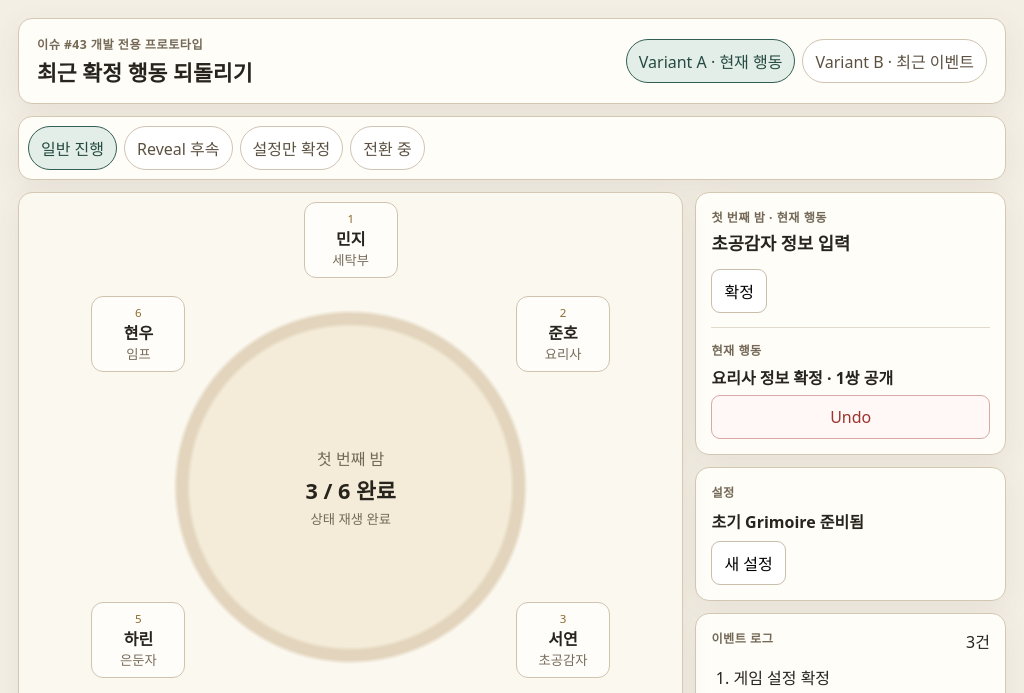
Test: keeps Undo discoverable while a confirmed Reveal follow-up is pending
The image size is (1024, 693).
Click the button "Reveal 후속". click: (178, 148)
box: [124,126,232,170]
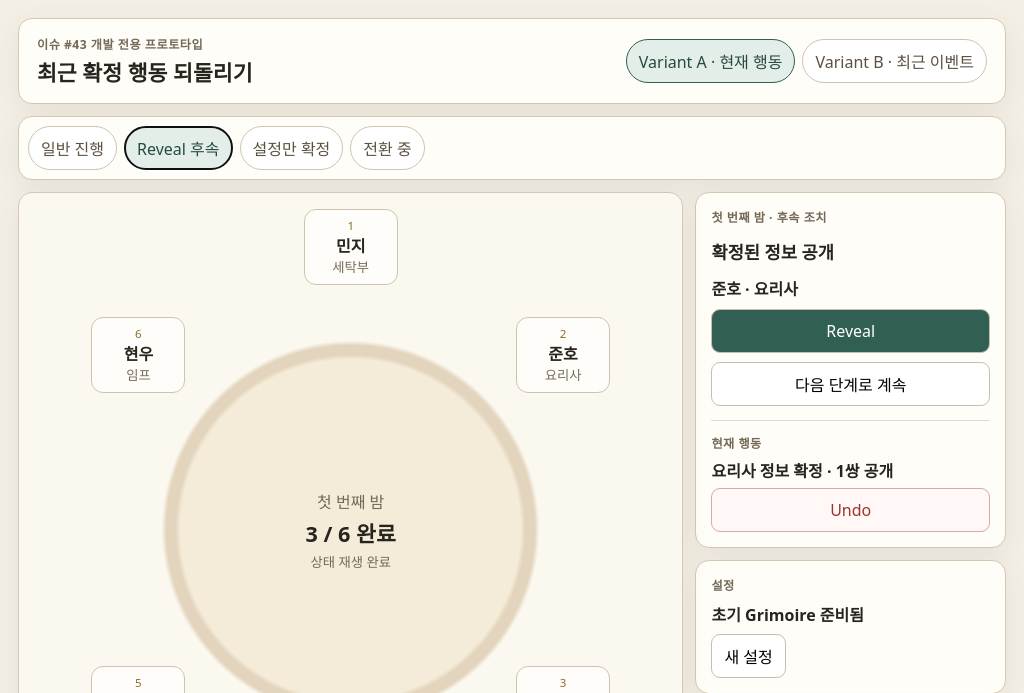
Check: the button "Undo" is shown, box [712,488,990,532]
Check: the element named "확정된 Reveal 후속 조치" is shown, box [712,208,990,406]
